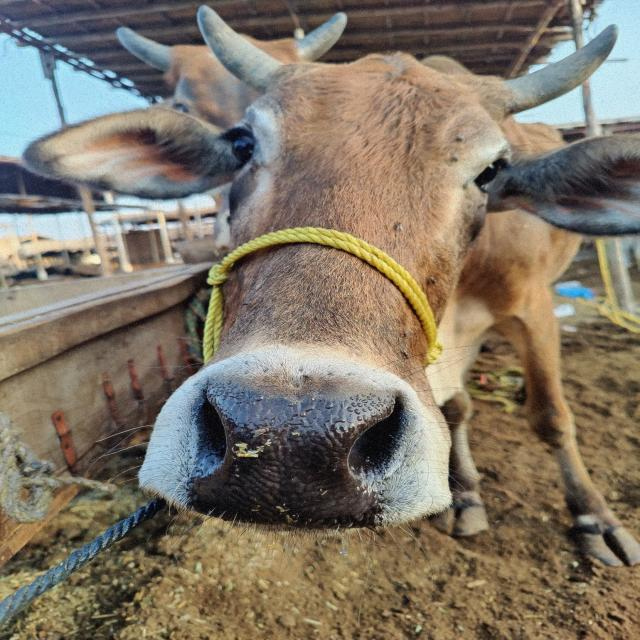muzzles: (183, 364, 413, 534)
